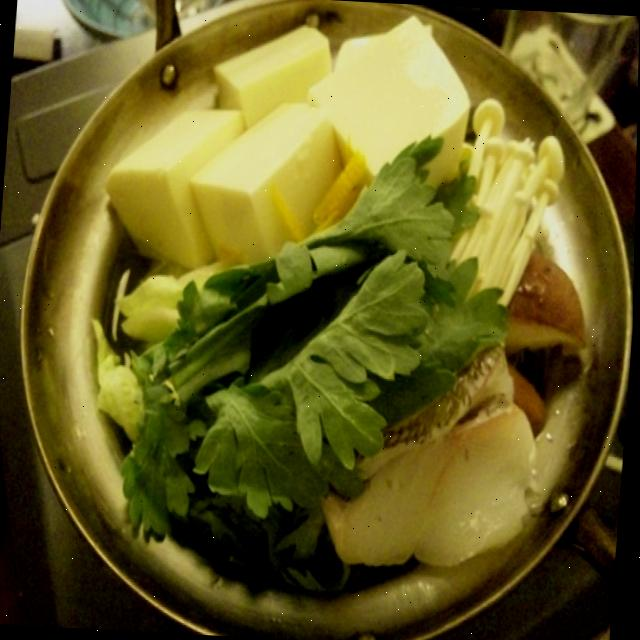豆腐料理: (30, 17, 601, 614)
